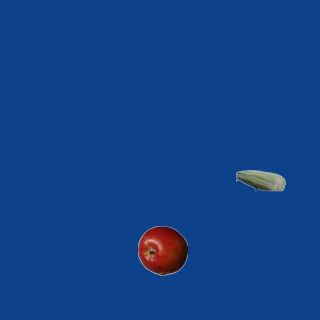Apple Braeburn: (137, 225, 187, 275)
Corn Husk: (235, 155, 285, 205)
